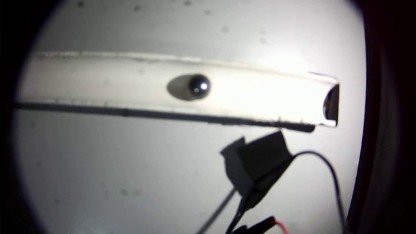gangzhu: (184, 72, 209, 97)
